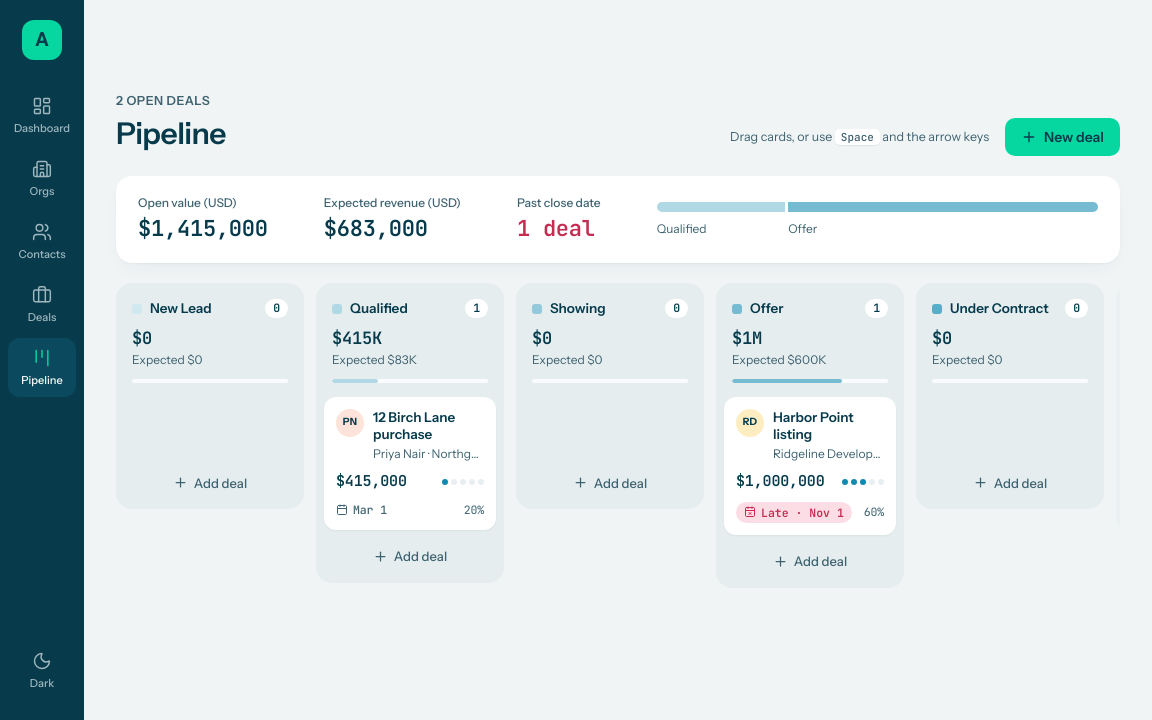
Pipeline page › opens a deal when its card is clicked, or when Enter is pressed on it
Later steps or results of the test are not shown.
What coordinates should you click on to do the following:
click the button "12 Birch Lane purchase"
I would click on:
 (410, 463)
Its box is [324,396,496,530].
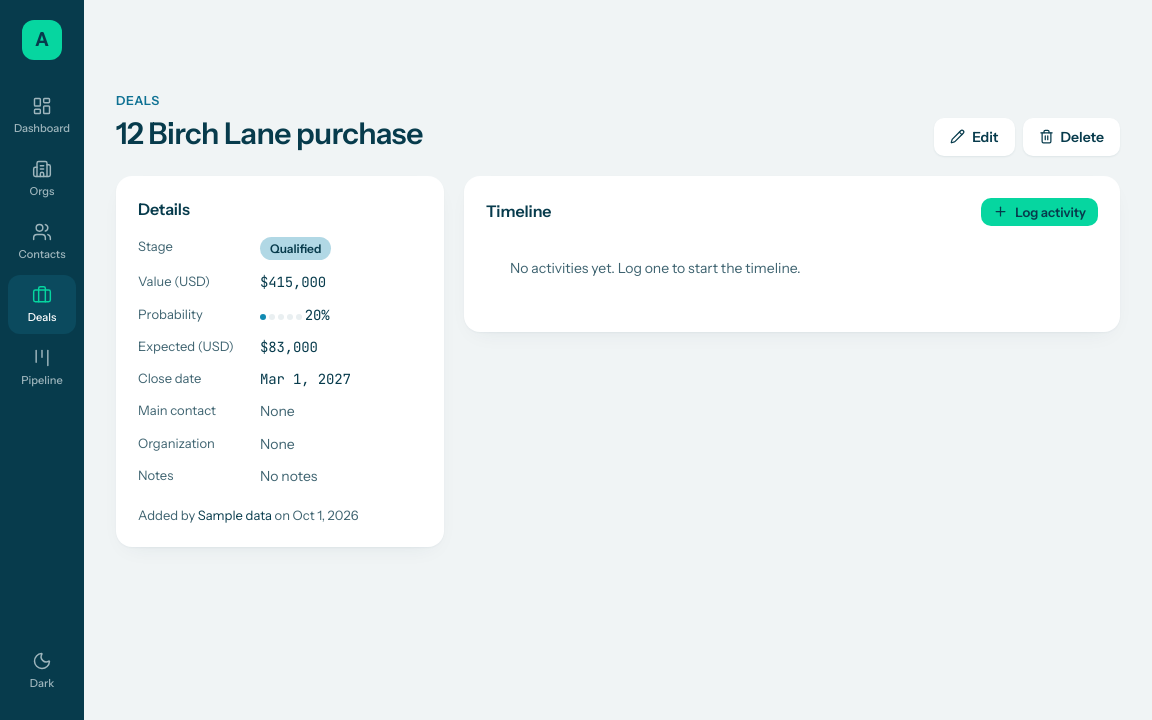
Expected: the heading "12 Birch Lane purchase" is shown, [116,112,423,156]
